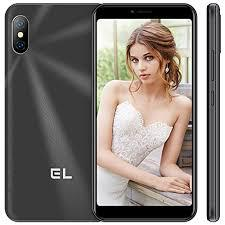Smartphone: (94, 2, 196, 215), (8, 1, 94, 215), (206, 1, 220, 219)
